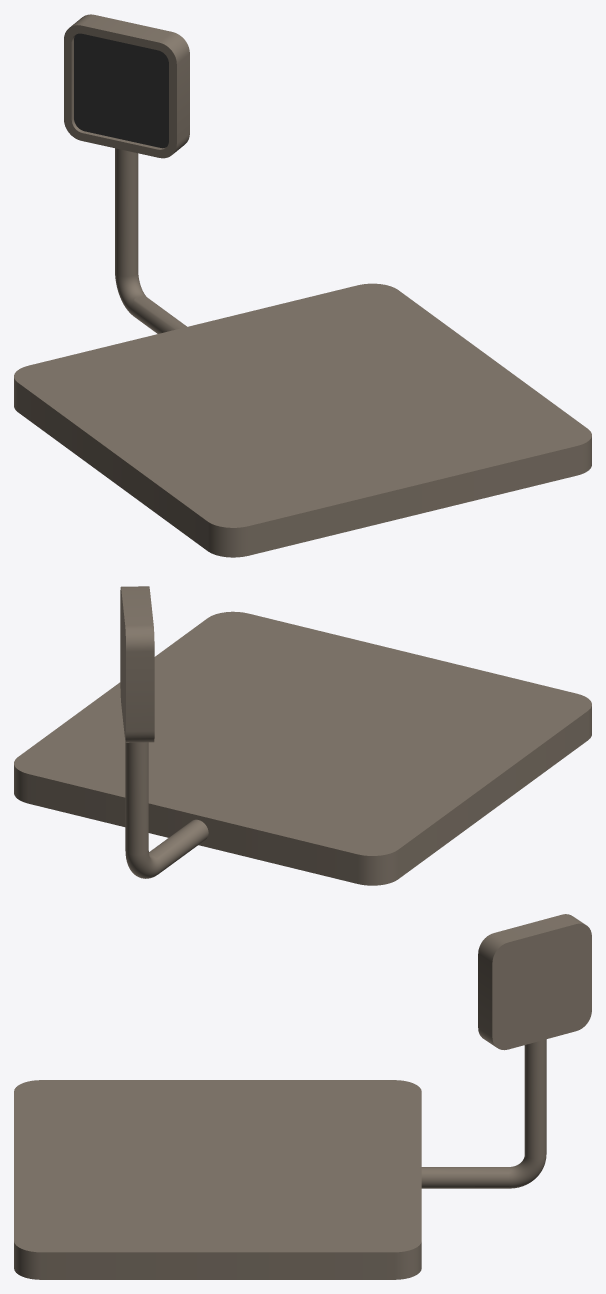
File: delivery_zone.glb
3 renders of one model, top to bottom at view 1: azimuth 30°, elevation 25°; view 2: azimuth 150°, elevation 25°; view 3: azimuth 270°, elevation 25°, orthographic. The views are drawn at different scales.
Visible parts, largest first — view 1: DeliveryZone; view 2: DeliveryZone; view 3: DeliveryZone.
Boxes of the visible parts, x1,y1,x2,y2 form: DeliveryZone: (14, 14, 591, 557); DeliveryZone: (14, 586, 591, 885); DeliveryZone: (14, 914, 591, 1279).
Size of the model in its own units: 0.8511 by 0.6053 by 1.21.
